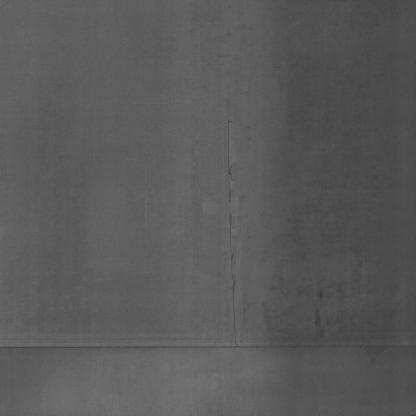oil_spot: (224, 106, 247, 344), (310, 286, 334, 332)
welding_line: (0, 338, 416, 362)
